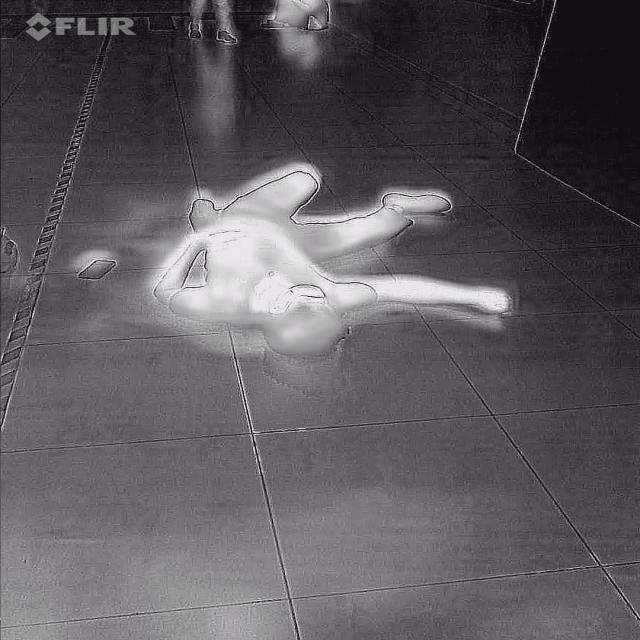Victim: (147, 164, 526, 362)
